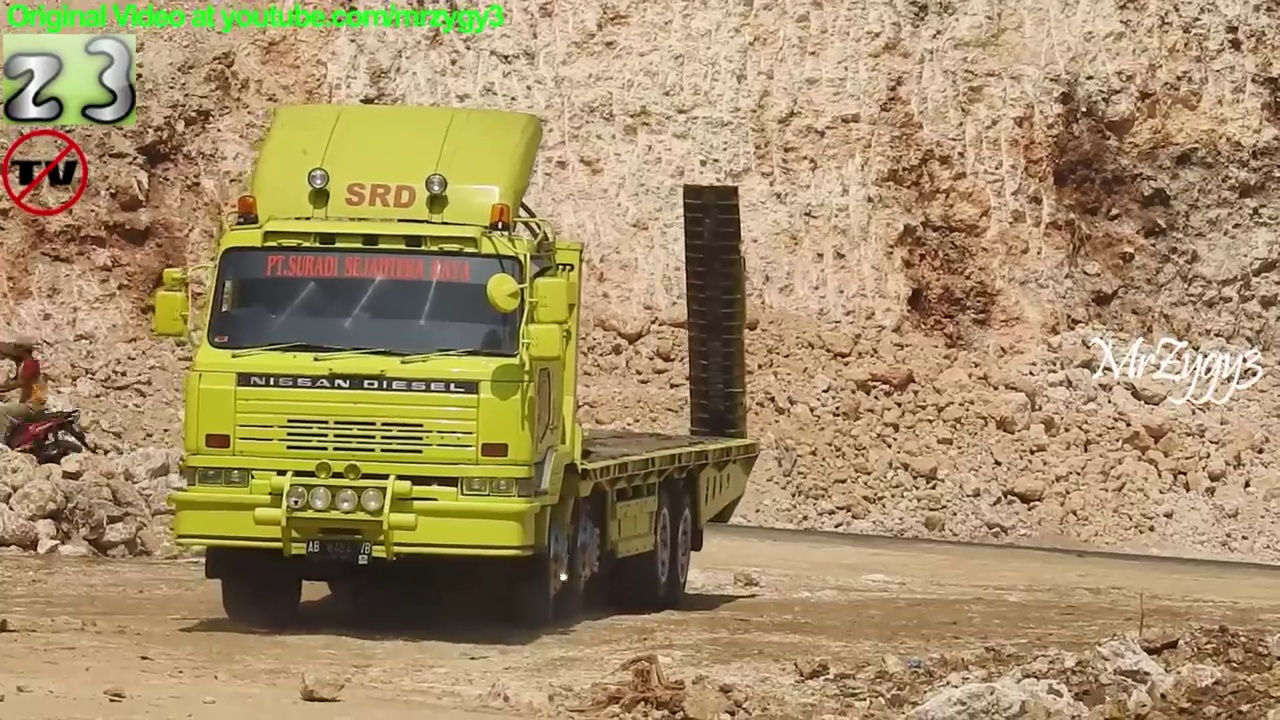truck: (148, 99, 767, 634)
